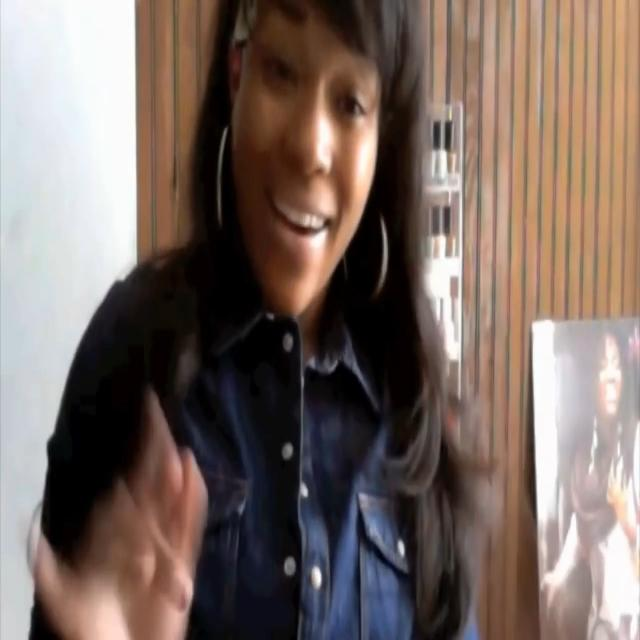Shirt: (29, 221, 478, 640)
